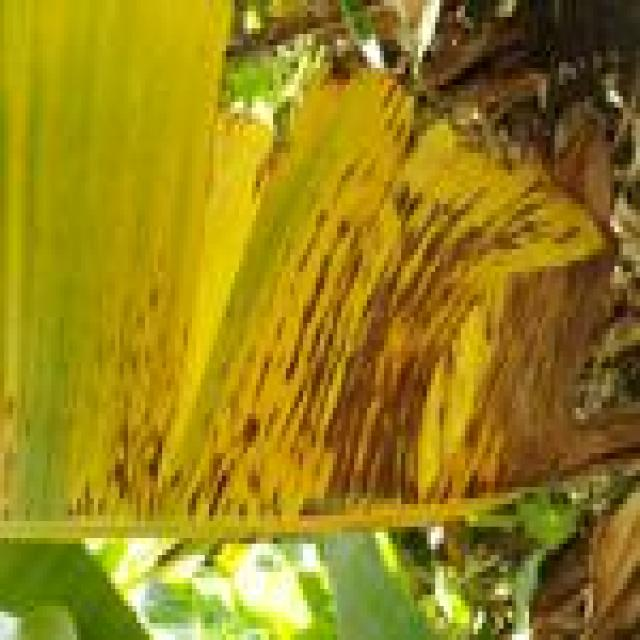Early_rust: (0, 1, 640, 549)
